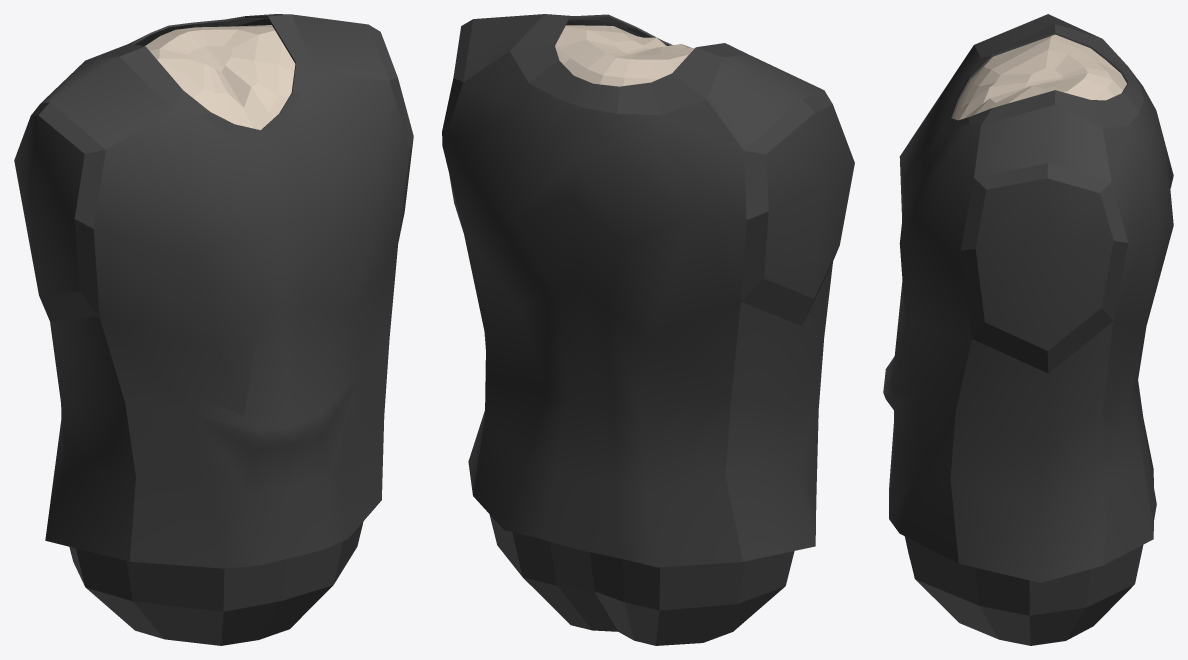
File: VC_Avatar_Torso_Base_Male_03.fbx
The picture shows the model from 3 angles, left to right: view 1: azimuth 30°, elevation 25°; view 2: azimuth 150°, elevation 25°; view 3: azimuth 270°, elevation 25°; orthographic projection. The views are drawn at different scales.
Parts seen in each view (by area): view 1: VC_Avater_Male_Shirt_01, VC_Avatar_Pants_Male, VC_Avatar_Torso_Male; view 2: VC_Avater_Male_Shirt_01, VC_Avatar_Pants_Male, VC_Avatar_Torso_Male; view 3: VC_Avater_Male_Shirt_01, VC_Avatar_Pants_Male, VC_Avatar_Torso_Male.
Boxes of the visible parts, x1,y1,x2,y2 form: VC_Avater_Male_Shirt_01: (14,14,413,568); VC_Avatar_Pants_Male: (69,521,363,645); VC_Avatar_Torso_Male: (145,25,295,130); VC_Avater_Male_Shirt_01: (442,14,854,567); VC_Avatar_Pants_Male: (489,514,794,645); VC_Avatar_Torso_Male: (555,25,694,86); VC_Avater_Male_Shirt_01: (883,14,1173,582); VC_Avatar_Pants_Male: (904,536,1143,645); VC_Avatar_Torso_Male: (953,34,1126,120).
Bounding box in the file's own units: 22.72 × 35.76 × 16.77.
